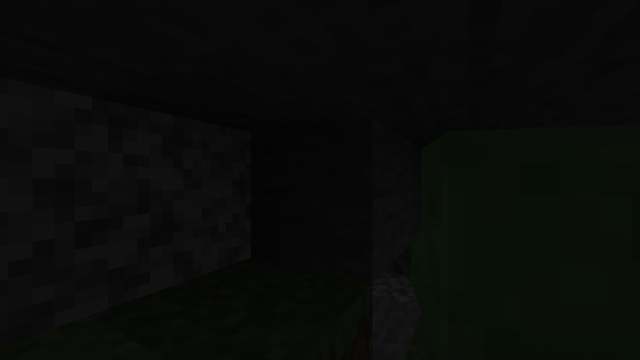slimes: (401, 122, 636, 357)
